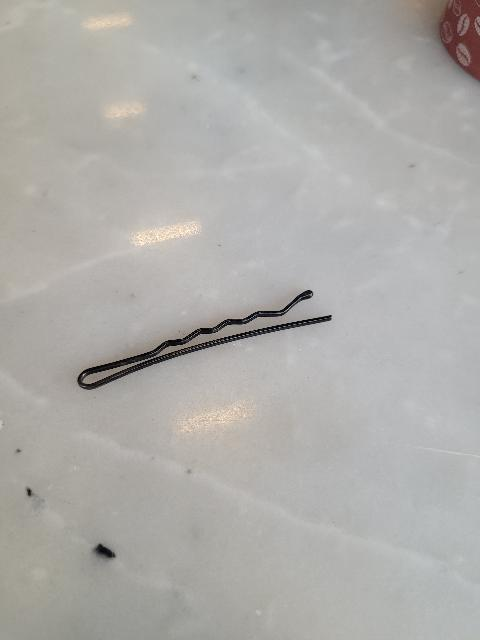Metal: (78, 289, 333, 394)
